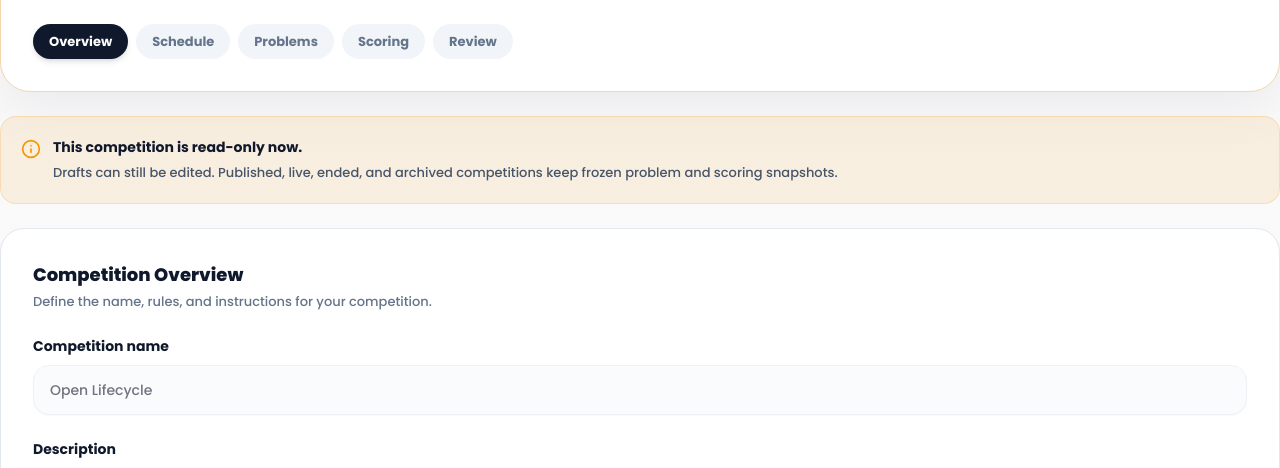
Test: CompetitionWizard lifecycle error and sync behavior › prefers lifecycle status over stale competition status after start
Click the button "Review": [473, 41] box left=433, top=24, right=513, bottom=59
(page scrolled)
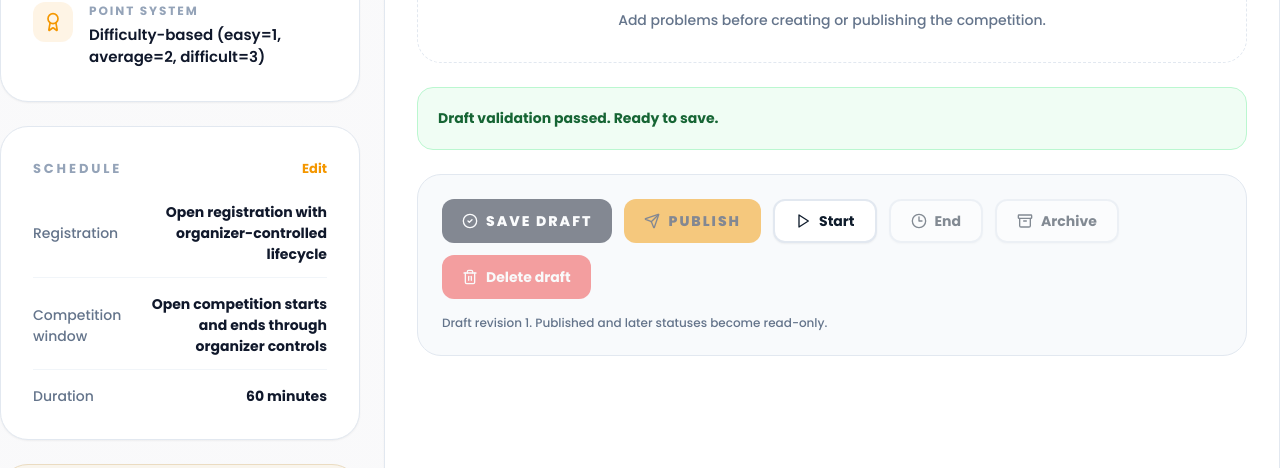
Click the button "Start": [825, 221] box left=773, top=199, right=876, bottom=243
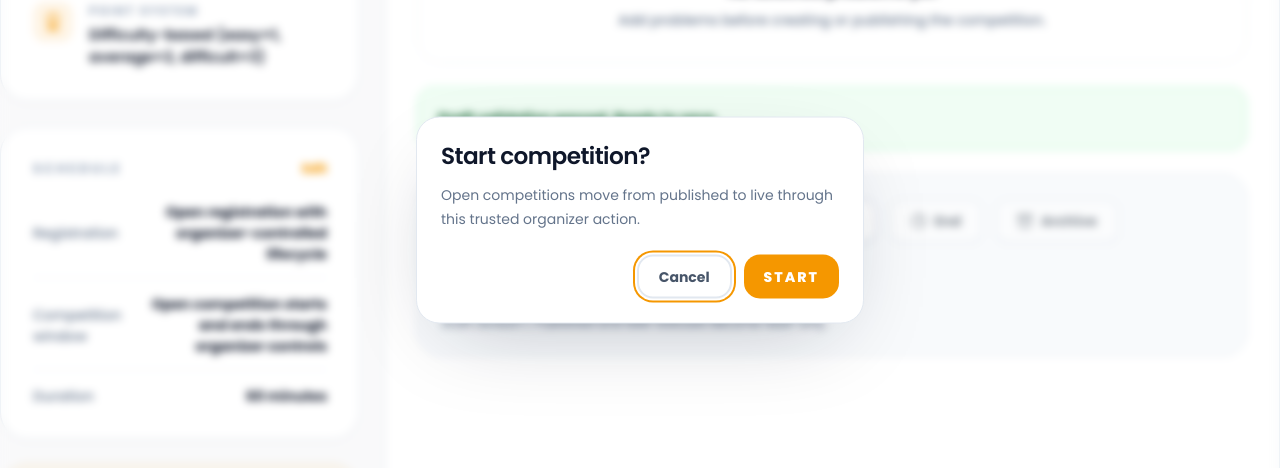
Click the button "Start": [791, 276] box left=744, top=254, right=839, bottom=298
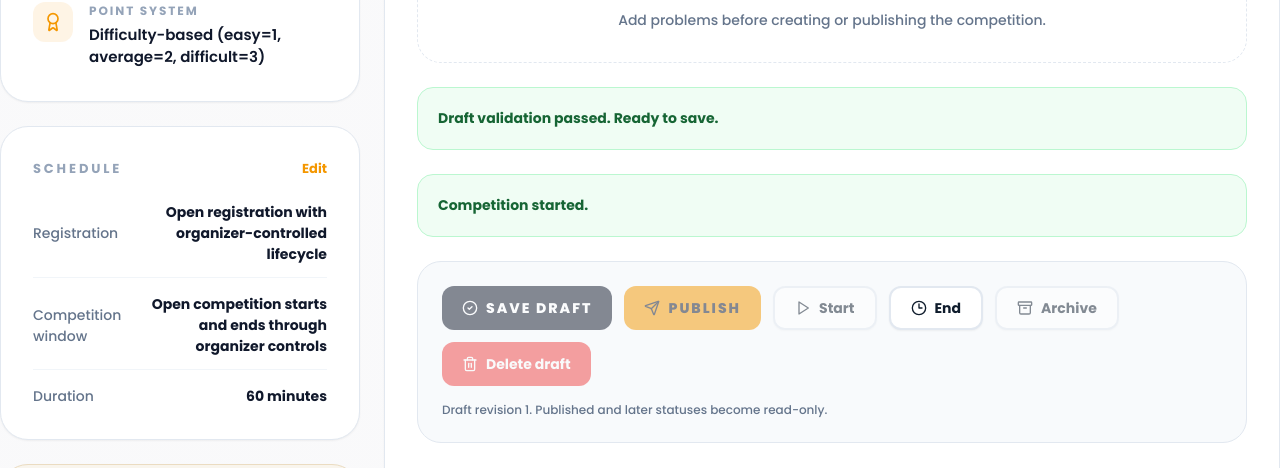
Result: the heading "Start competition?" is gone
Result: the button "Start" is disabled at left=773, top=286, right=876, bottom=330
Result: the button "End" is enabled at left=888, top=286, right=983, bottom=330
